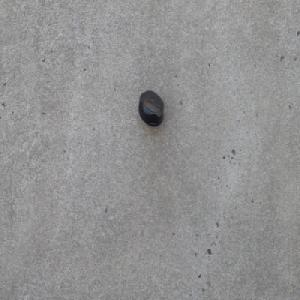FuelCap: (137, 90, 164, 128)
